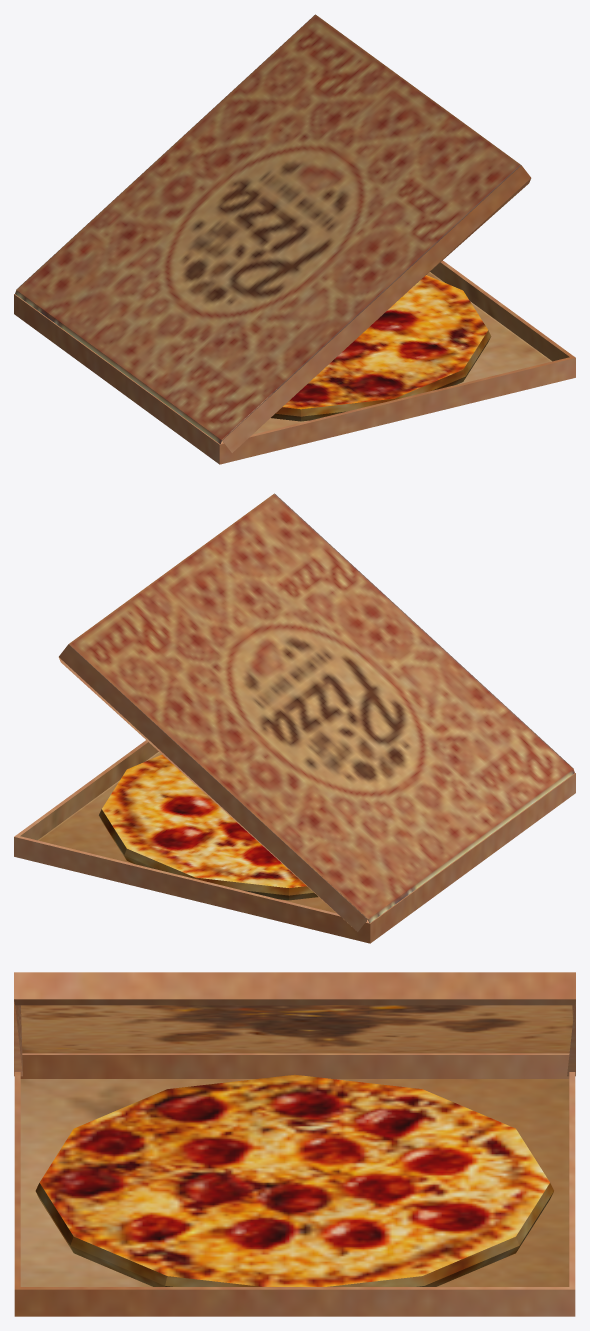
The model's file is pizza_box_semi_close_with_pizza.obj.
3 views of the same model, one above another, from view 1: azimuth 30°, elevation 25°; view 2: azimuth 150°, elevation 25°; view 3: azimuth 270°, elevation 25° (orthographic). The views are drawn at different scales.
Parts seen in each view (by area): view 1: pizza_box_semi_close_with_pizza; view 2: pizza_box_semi_close_with_pizza; view 3: pizza_box_semi_close_with_pizza.
Boxes of the visible parts, x1=… form: pizza_box_semi_close_with_pizza: x1=14, y1=14, x2=575, y2=464; pizza_box_semi_close_with_pizza: x1=14, y1=493, x2=575, y2=943; pizza_box_semi_close_with_pizza: x1=14, y1=972, x2=575, y2=1316.
Size of the model in its own units: 0.5276 by 0.3198 by 0.5286.
